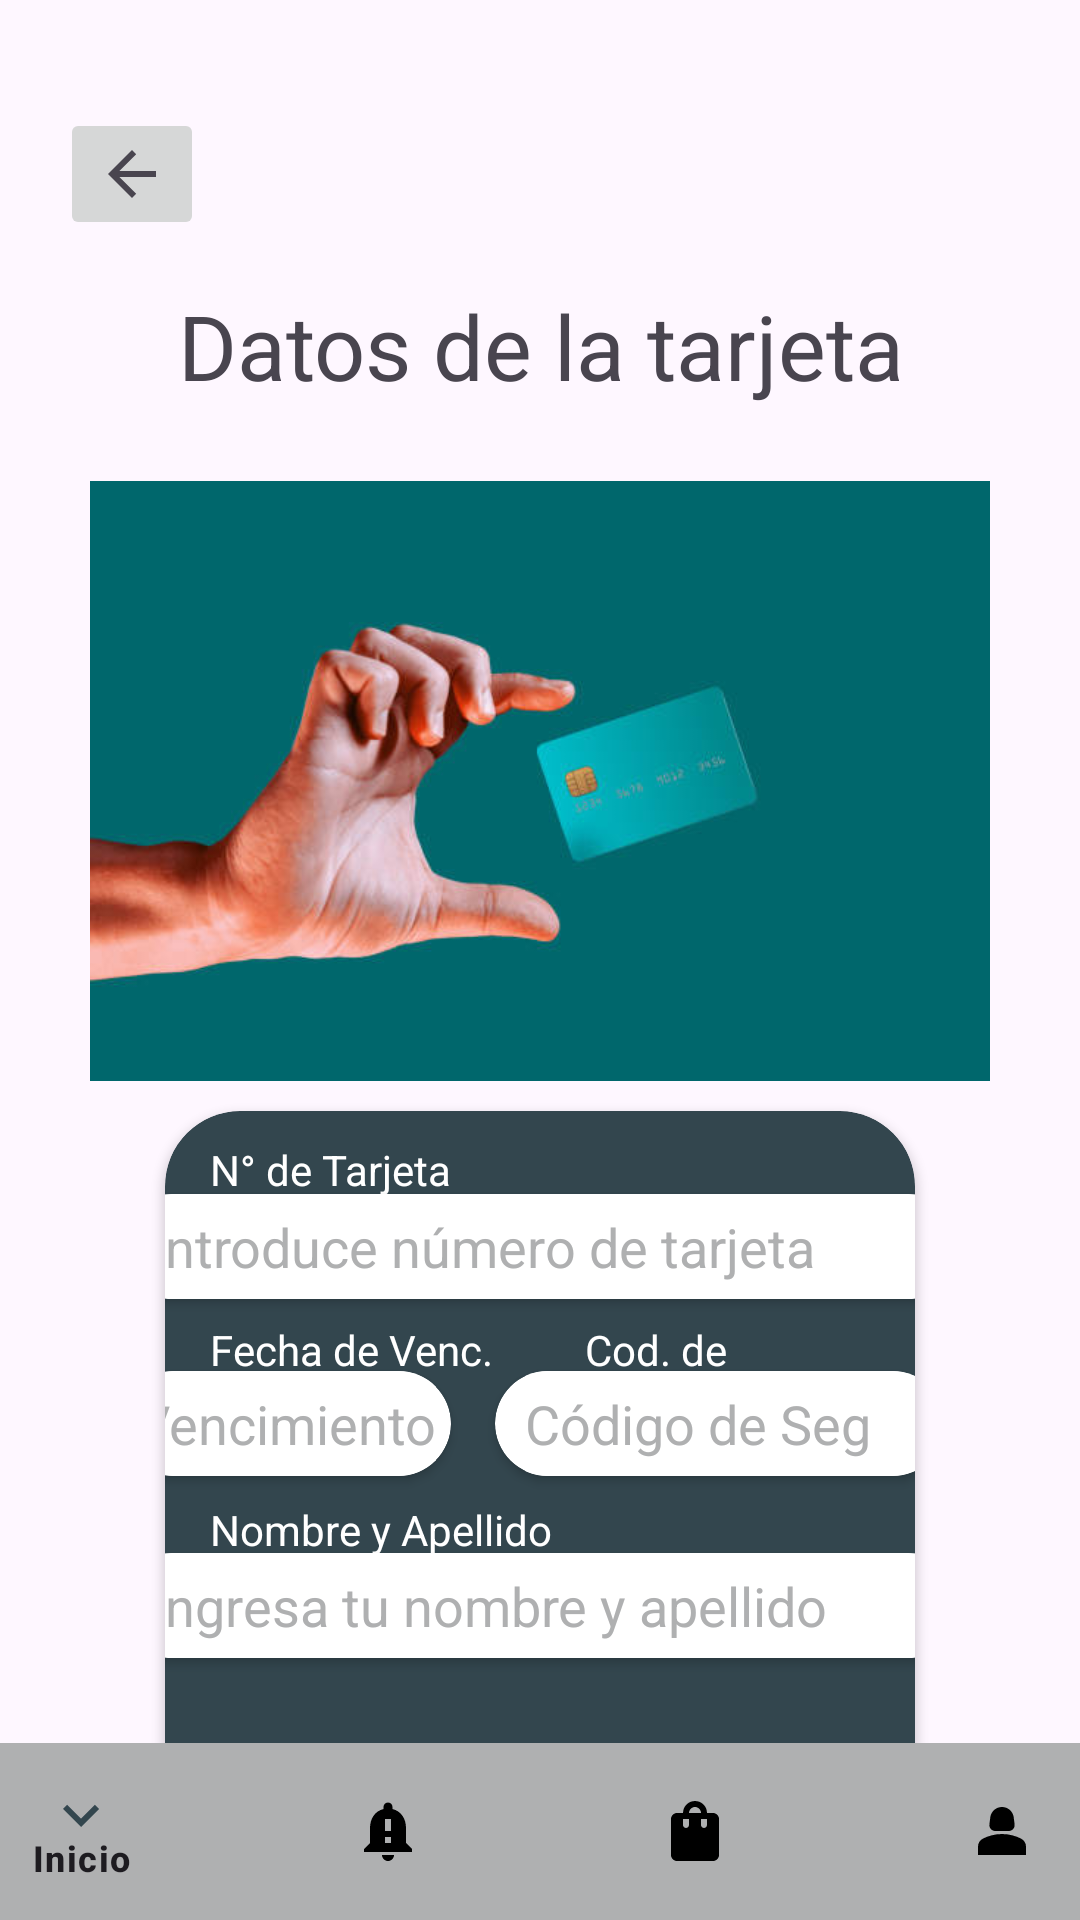

Where to tap for icons on this 1080w x 1920h app screen, as [x,y]:
Flecha para volver atrás: [132,174]
